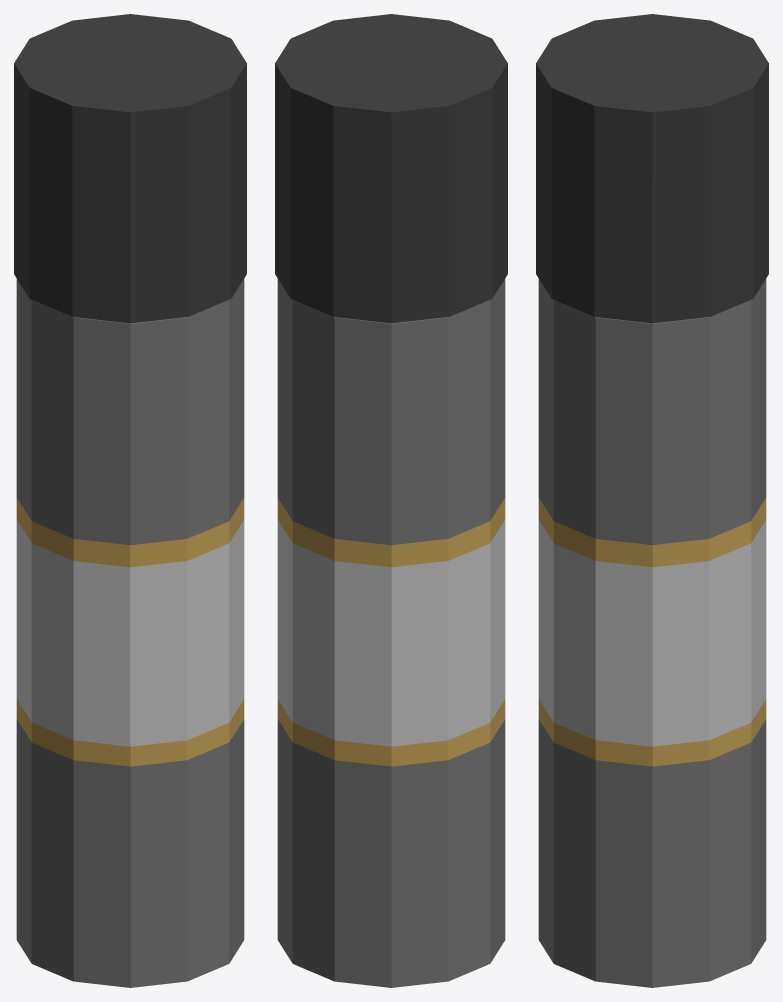
File: Hair Spray.fbx
3 views of the same model, side by side, from view 1: azimuth 30°, elevation 25°; view 2: azimuth 150°, elevation 25°; view 3: azimuth 270°, elevation 25° (orthographic).
Parts seen in each view (by area): view 1: Hair Spray, Lid; view 2: Hair Spray, Lid; view 3: Hair Spray, Lid.
Boxes of the visible parts, bbox=[...] form: Hair Spray: bbox=[16, 279, 244, 987]; Lid: bbox=[14, 14, 246, 323]; Hair Spray: bbox=[277, 279, 505, 987]; Lid: bbox=[275, 14, 507, 323]; Hair Spray: bbox=[538, 279, 766, 987]; Lid: bbox=[536, 14, 768, 323].
Size of the model in its own units: 57.2 by 238 by 57.2.
